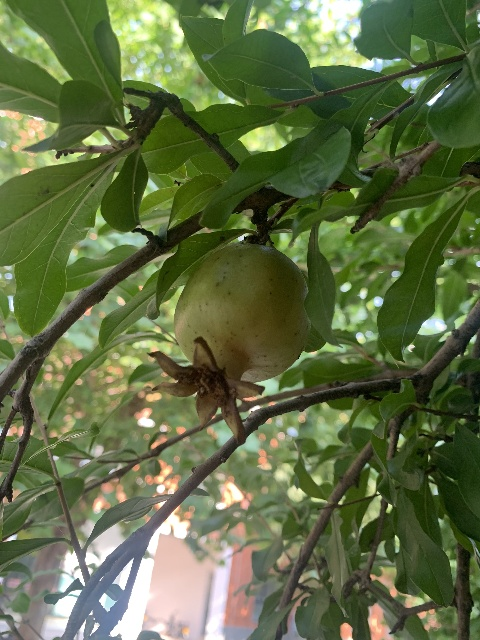mid-growth: (149, 242, 310, 439)
